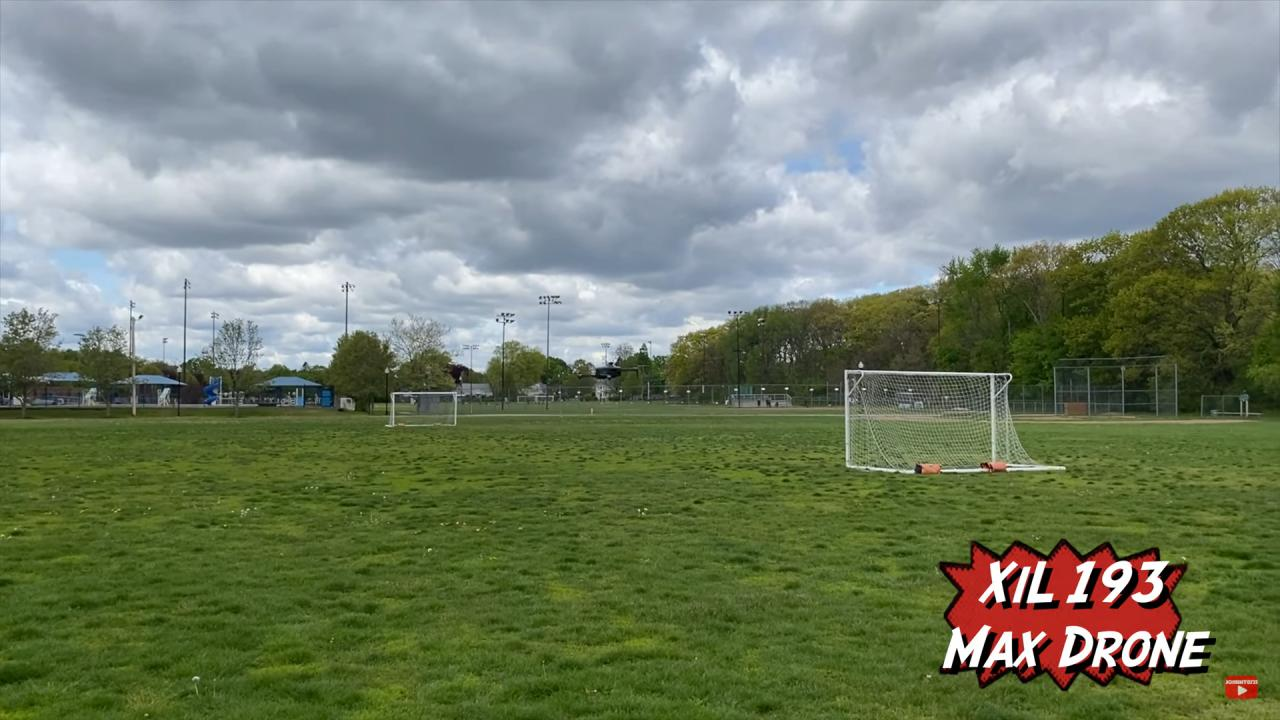Drone: (572, 357, 647, 387)
